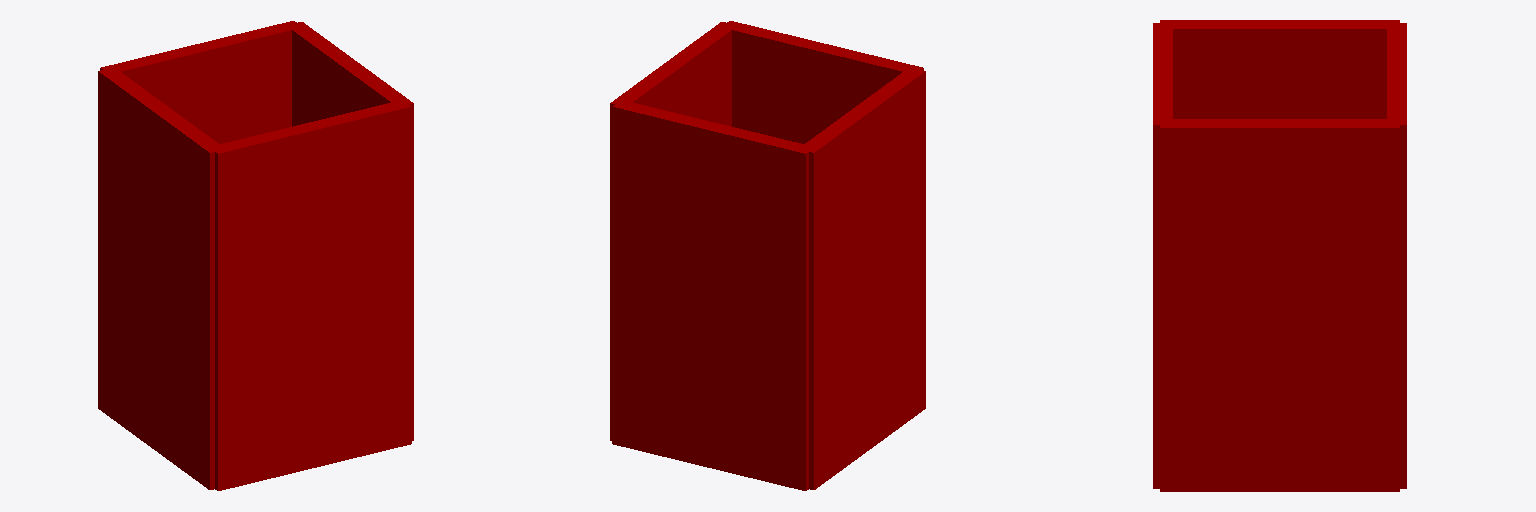
URDF robot description (red_box.urdf):
<?xml version="1.0"?>
<robot name="red_box.urdf">
  <material name="red">
    <color rgba="0.7 0 0 1"/>
  </material>
  <link name="bottom">
    <visual>
      <origin xyz="0 0 -0.1"/>
      <geometry>
        <box size="0.3 0.3 0.1"/>
      </geometry>
      <material name="red"/>
    </visual>
    <collision>
      <origin xyz="0 0 -0.15"/>
      <geometry>
        <box size="0.3 0.3 0.1"/>
      </geometry>
    </collision>
    <inertial>
      <mass value="0.2"/>
      <inertia ixx="1.0" iyy="1.0" izz="1.0" ixy="0" ixz="0" iyz="0"/>
    </inertial>
  </link>
  <link name="edge_nx">
    <visual>
      <geometry>
        <box size="0.025 0.3 0.5"/>
      </geometry>
      <material name="red"/>
    </visual>
    <collision>
      <geometry>
        <box size="0.025 0.3 0.5"/>
      </geometry>
    </collision>
    <inertial>
      <mass value="0.2"/>
      <inertia ixx="1.0" iyy="1.0" izz="1.0" ixy="0" ixz="0" iyz="0"/>
    </inertial>
  </link>
  <link name="edge_px">
    <visual>
      <geometry>
        <box size="0.025 0.3 0.5"/>
      </geometry>
      <material name="red"/>
    </visual>
    <collision>
      <geometry>
        <box size="0.025 0.3 0.5"/>
      </geometry>
    </collision>
    <inertial>
      <mass value="0.2"/>
      <inertia ixx="1.0" iyy="1.0" izz="1.0" ixy="0" ixz="0" iyz="0"/>
    </inertial>
  </link>
  <link name="edge_ny">
    <visual>
      <geometry>
        <box size="0.3 0.025 0.5"/>
      </geometry>
      <material name="red"/>
    </visual>
    <collision>
      <geometry>
        <box size="0.3 0.025 0.5"/>
      </geometry>
    </collision>
    <inertial>
      <mass value="0.2"/>
      <inertia ixx="1.0" iyy="1.0" izz="1.0" ixy="0" ixz="0" iyz="0"/>
    </inertial>
  </link>
  <link name="edge_py">
    <visual>
      <geometry>
        <box size="0.3 0.025 0.5"/>
      </geometry>
      <material name="red"/>
    </visual>
    <collision>
      <geometry>
        <box size="0.3 0.025 0.5"/>
      </geometry>
    </collision>
    <inertial>
      <mass value="0.2"/>
      <inertia ixx="1.0" iyy="1.0" izz="1.0" ixy="0" ixz="0" iyz="0"/>
    </inertial>
  </link>

  <joint name="edge_joint_nx" type="fixed">
    <origin xyz="-0.1455 0 0"/>
    <parent link="bottom"/>
    <child link="edge_nx"/>
  </joint>
  <joint name="edge_joint_px" type="fixed">
    <origin xyz="0.1455 0 0"/>
    <parent link="bottom"/>
    <child link="edge_px"/>
  </joint>
  <joint name="edge_joint_ny" type="fixed">
    <origin xyz="0 -0.1455 0"/>
    <parent link="bottom"/>
    <child link="edge_ny"/>
  </joint>
  <joint name="edge_joint_py" type="fixed">
    <origin xyz="0 0.1455 0"/>
    <parent link="bottom"/>
    <child link="edge_py"/>
  </joint>
</robot>

--- Facts derived from the render (not from the file) ---
3 views of the same robot in one strip: view 1: azimuth 30°, elevation 25°; view 2: azimuth 150°, elevation 25°; view 3: azimuth 270°, elevation 25° (orthographic).
Robot: red_box.urdf — 5 links, 4 joints (4 fixed); root link bottom; default pose: all joints at 0.
Visible links, largest first — view 1: edge_ny, edge_nx, edge_py, edge_px; view 2: edge_py, edge_nx, edge_ny, edge_px; view 3: edge_px, edge_nx, edge_ny, edge_py.
Boxes of the visible links, box(x1,y1,x2,y2) form: edge_ny: box(215, 103, 411, 490); edge_nx: box(98, 67, 224, 489); edge_py: box(100, 21, 296, 143); edge_px: box(286, 22, 413, 440); edge_py: box(612, 103, 808, 490); edge_nx: box(799, 67, 925, 489); edge_ny: box(726, 21, 923, 143); edge_px: box(610, 22, 737, 440); edge_px: box(1160, 119, 1399, 491); edge_nx: box(1160, 20, 1399, 118); edge_ny: box(1153, 23, 1172, 488); edge_py: box(1387, 23, 1406, 488).
Size in the robot's own frame: 0.316 by 0.316 by 0.5 metres.
Geometry: primitives only (box / cylinder / sphere), no mesh files.
